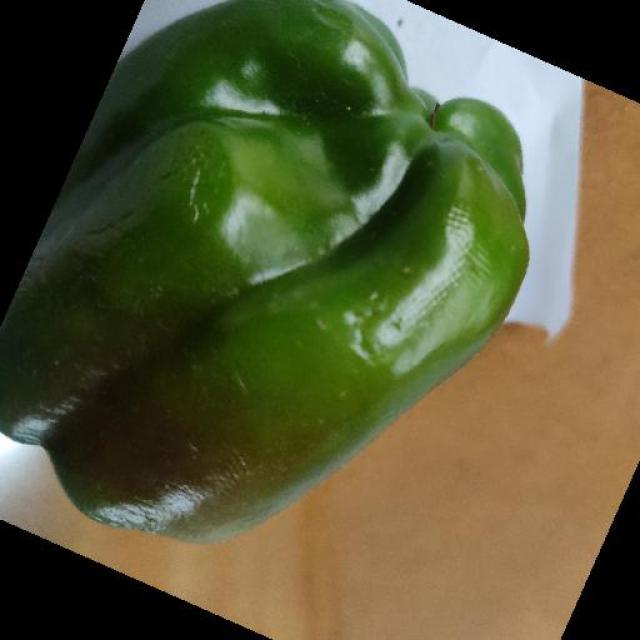Stale_Capsicum: (0, 162, 480, 520)
